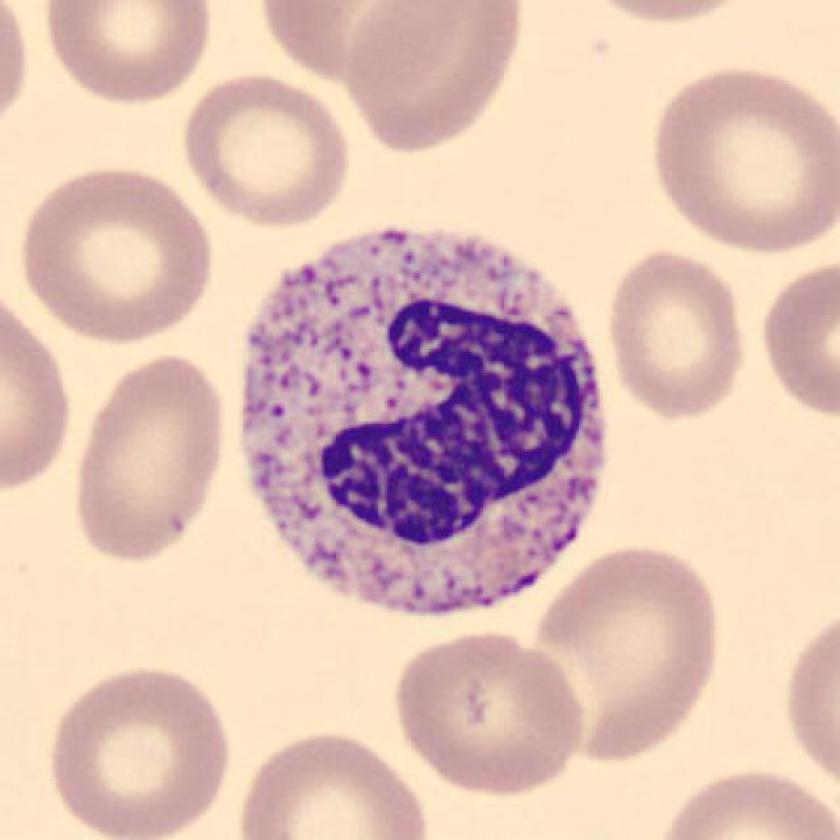neutrophil: (244, 232, 603, 617)
